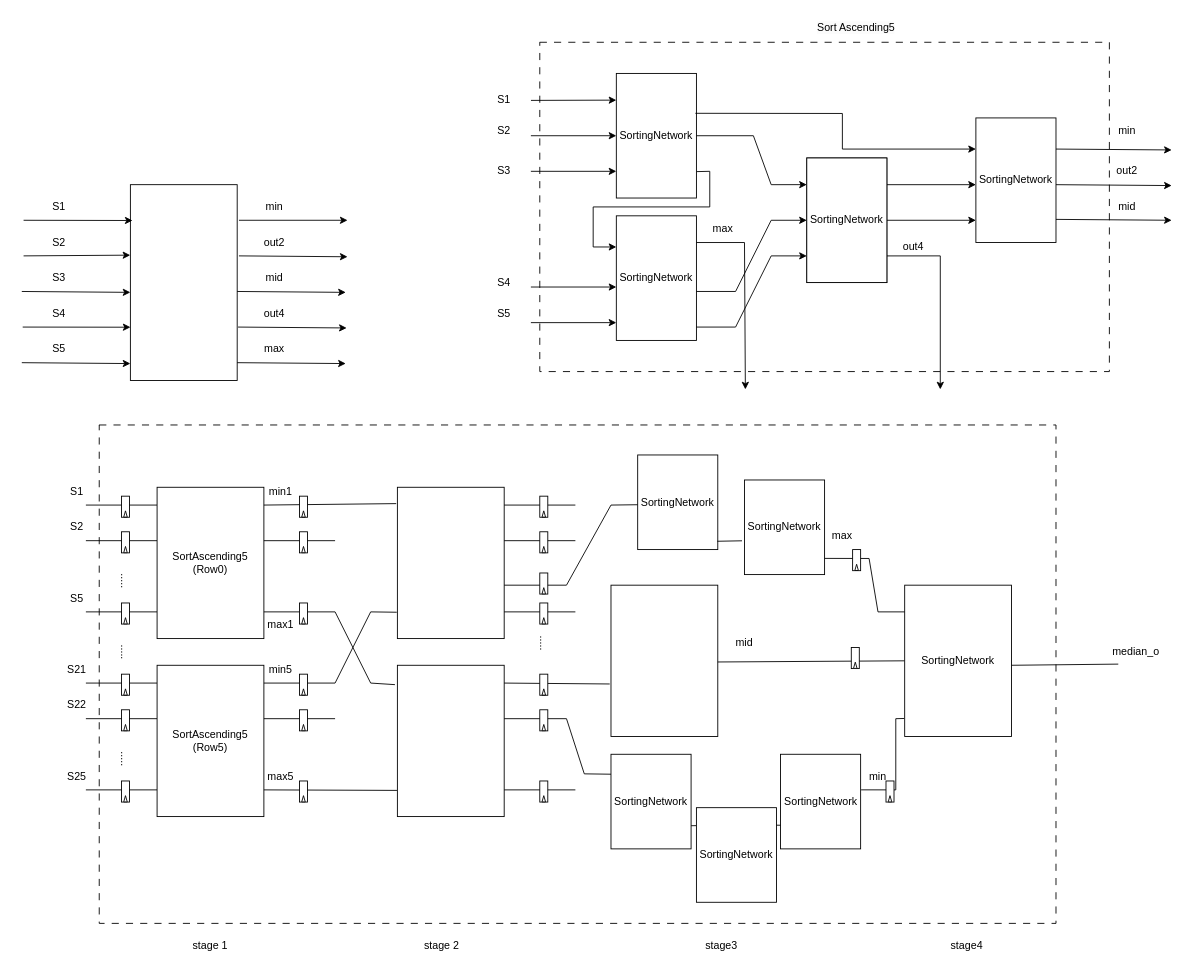
The diagram is 1194 pixels wide and 974 high, and some of its shapes have lost their labels. The shapes that lost their labels are listed below. From the top down, each one's centre as x and y in pixels, then its label:
At point 183,282: "SortAscending5".
At point 450,562: "SortAscending5 (Col0)".
At point 664,660: "SortAscending5 (Diag1)".
At point 450,740: "SortAscending5 (Col5)".
